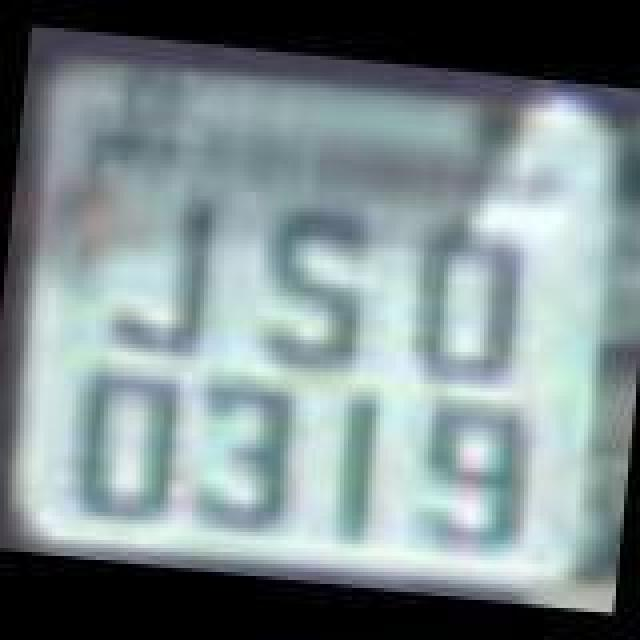1: (324, 386, 388, 542)
3: (182, 366, 306, 538)
9: (416, 388, 536, 556)
J: (106, 184, 230, 360)
O: (396, 216, 532, 392), (62, 356, 186, 524)
S: (250, 200, 374, 376)
